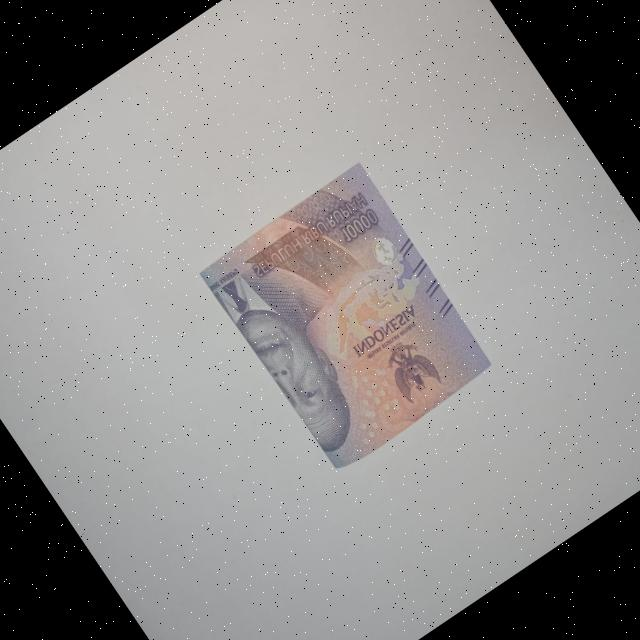10K: (192, 152, 504, 480)
